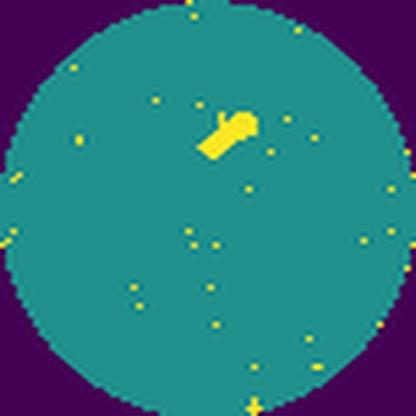Loc: (194, 108, 264, 162)
